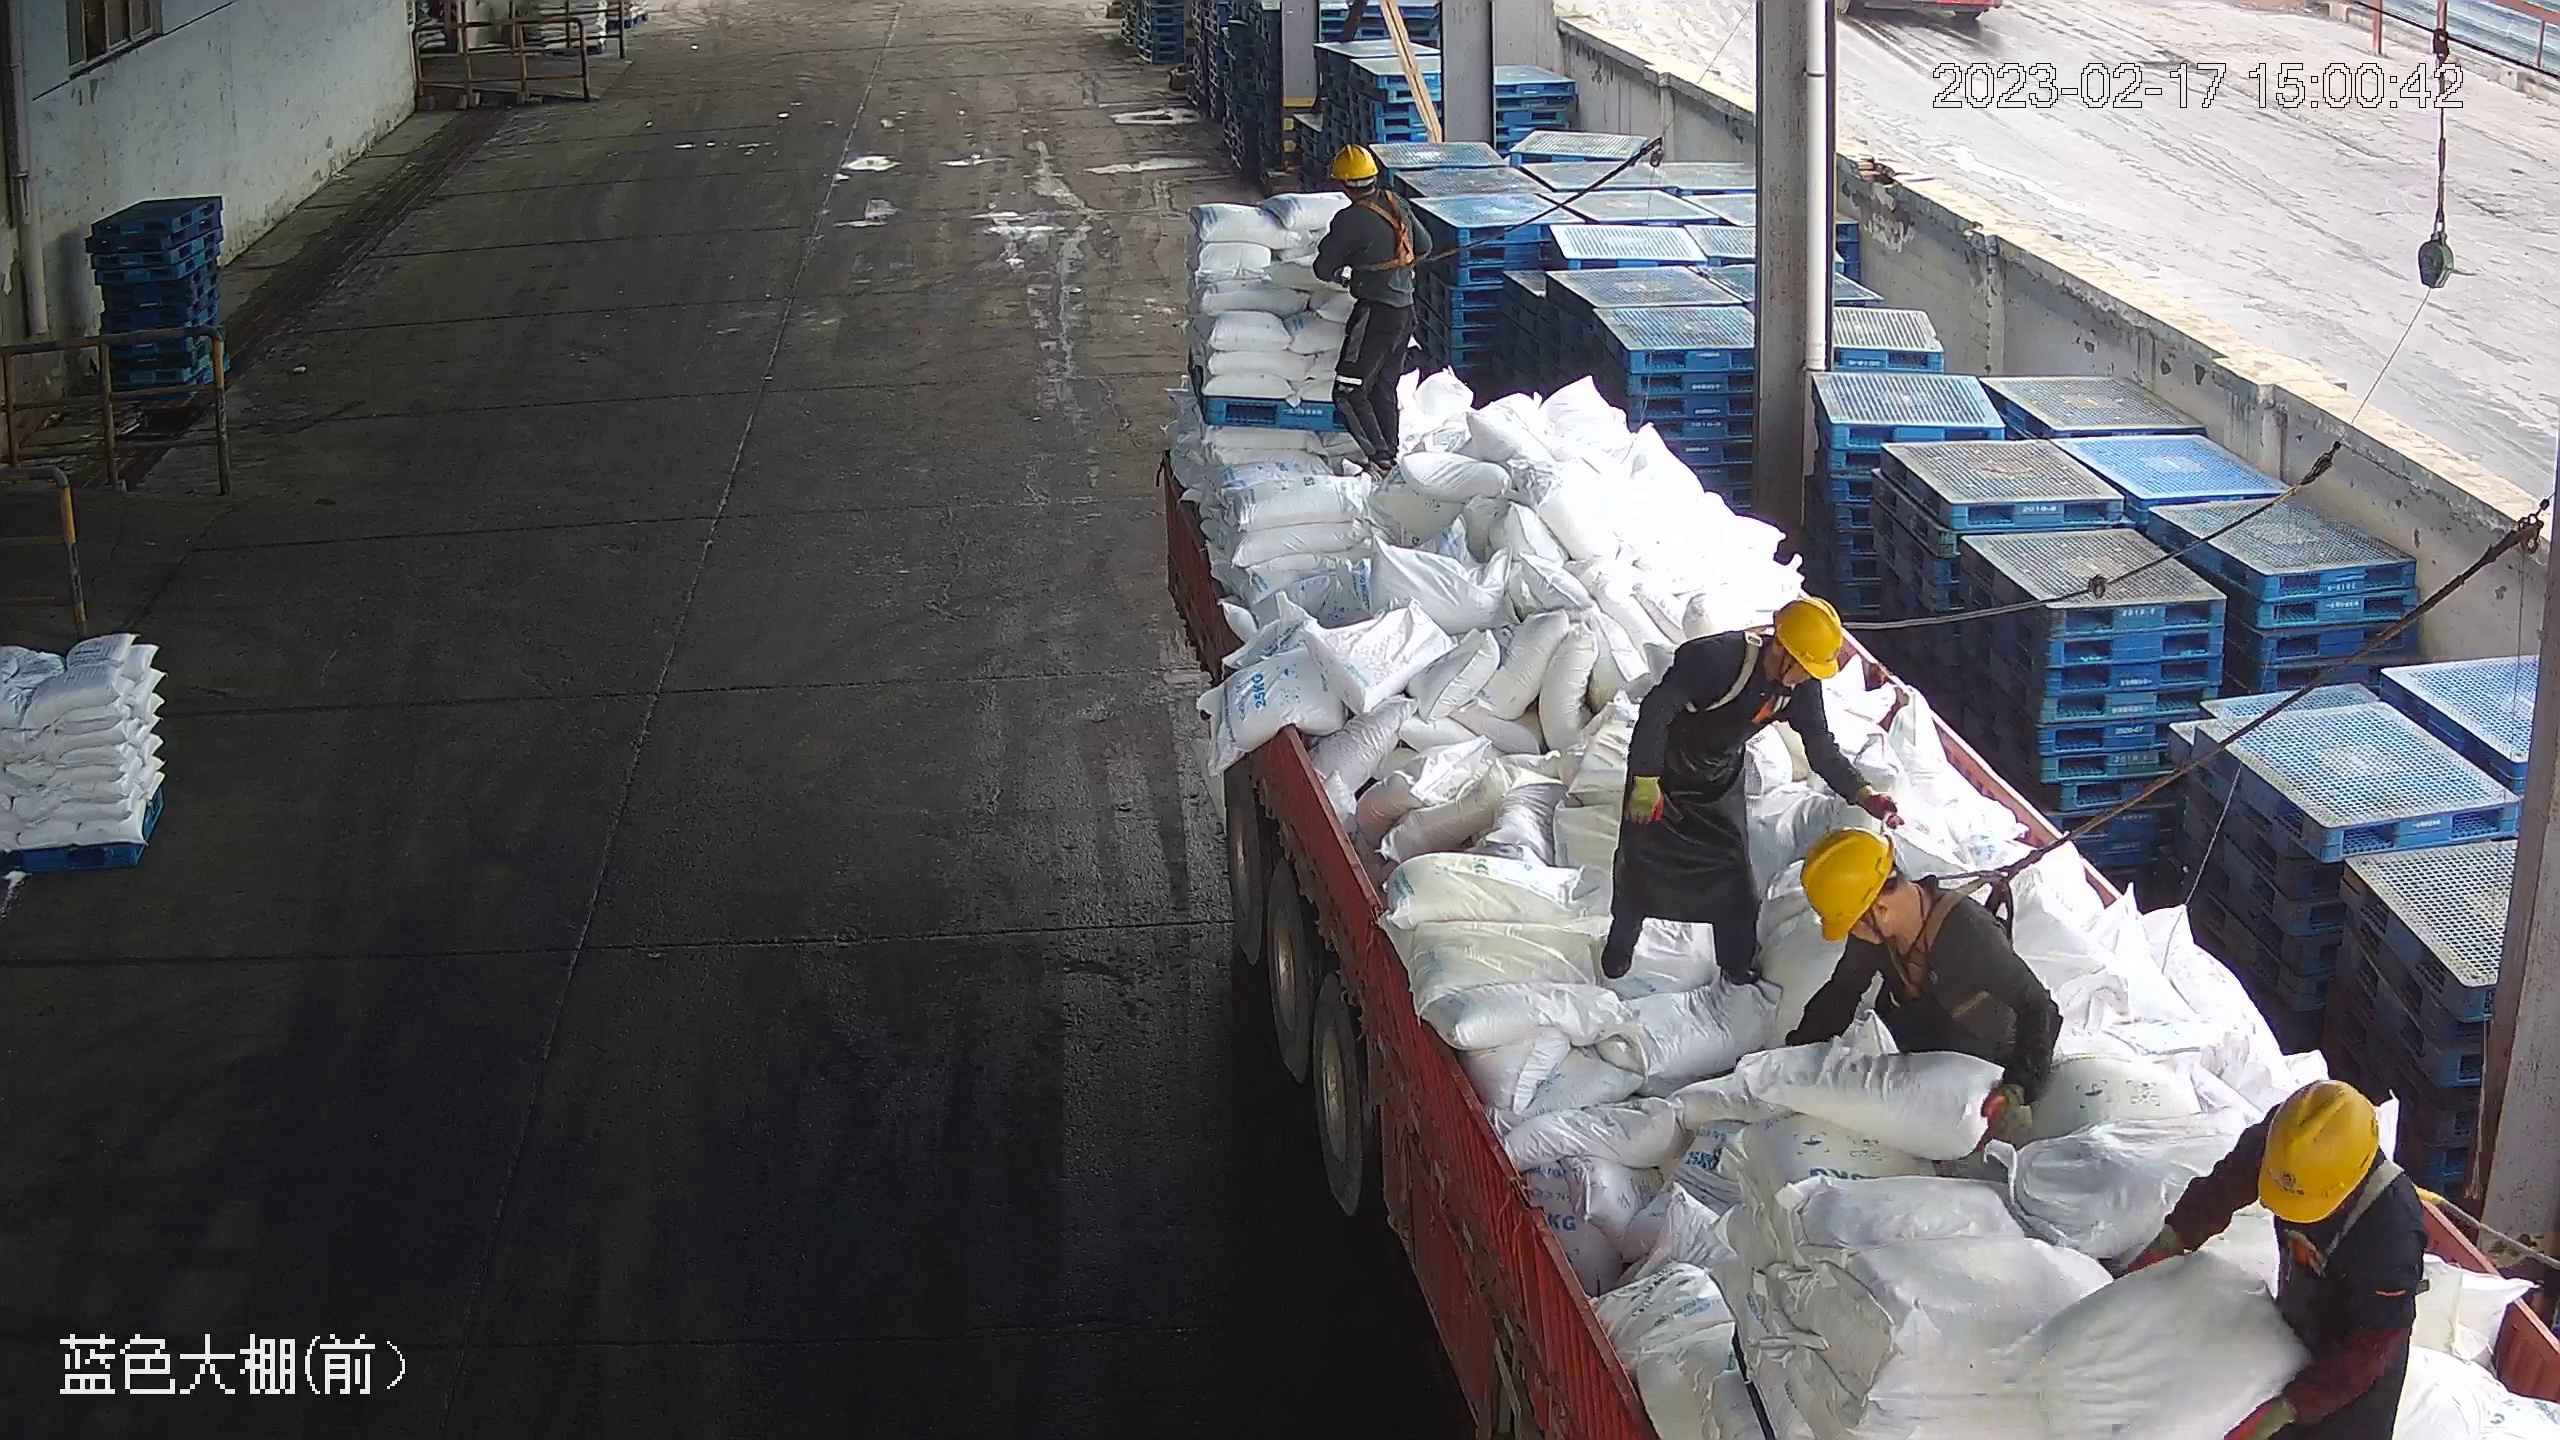belt: (2306, 1152, 2467, 1280), (1909, 848, 2042, 975), (1681, 623, 1802, 734), (1354, 188, 1433, 277)
head: (2219, 1077, 2427, 1307), (1801, 825, 2015, 1016), (1684, 597, 1846, 748), (1326, 145, 1420, 245)
helmet: (2260, 1081, 2380, 1226), (1799, 828, 1898, 942), (1770, 597, 1842, 679), (1329, 145, 1379, 181)
people: (1602, 596, 1904, 984), (2129, 1079, 2428, 1440), (1313, 143, 1433, 478)
truck: (1151, 389, 2560, 1440)
